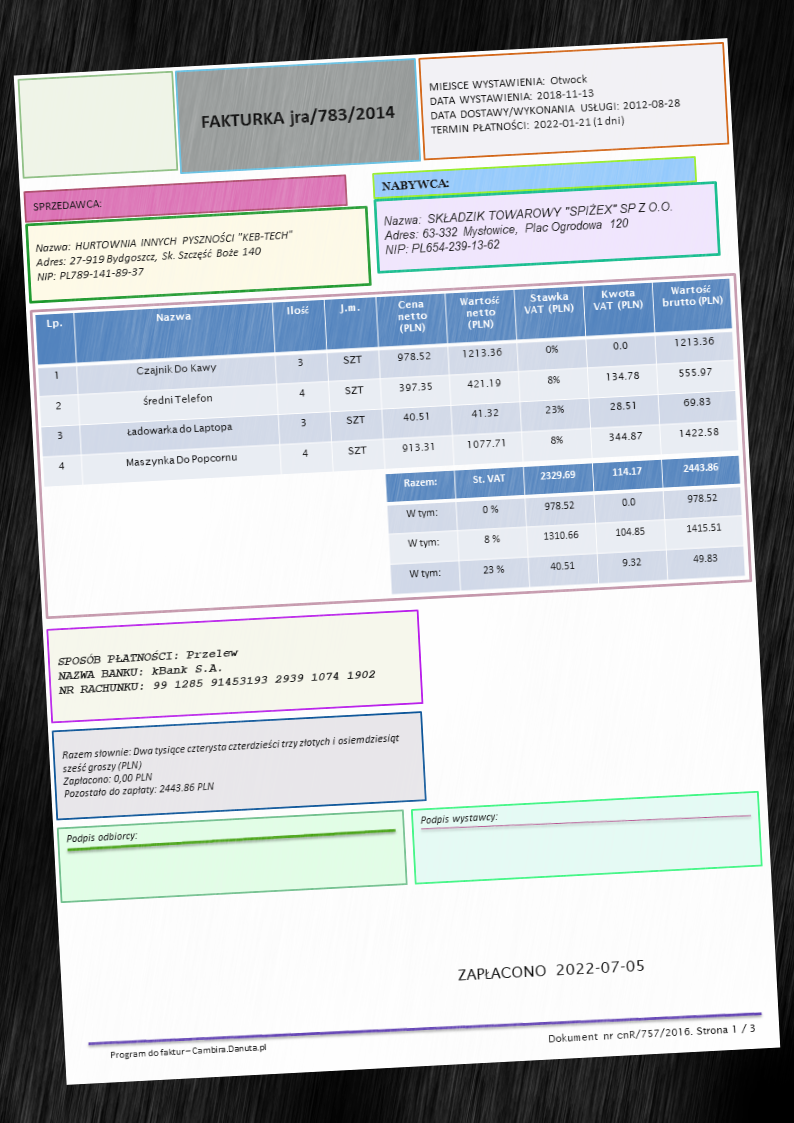Table: (33, 276, 739, 488), (384, 453, 745, 595)
TextBox: (59, 729, 404, 802), (56, 635, 377, 700), (380, 196, 675, 261), (426, 65, 685, 139), (32, 226, 296, 287), (197, 101, 398, 133), (454, 955, 645, 984), (546, 1020, 758, 1046), (107, 1038, 270, 1062), (416, 808, 499, 829), (28, 194, 103, 215), (64, 826, 139, 847), (378, 174, 451, 194)
